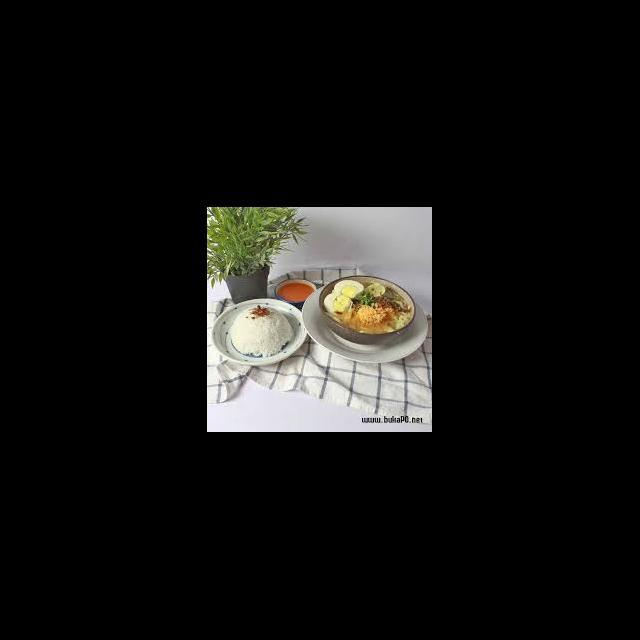Soto: (319, 276, 415, 335)
